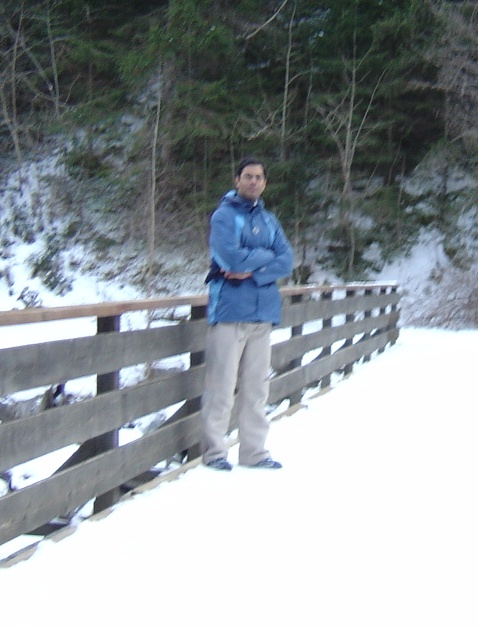person: (195, 154, 297, 468)
